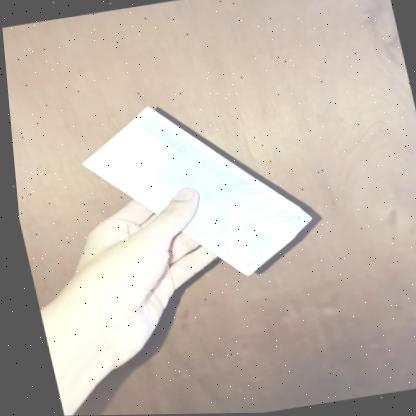ten-back-vef: (66, 87, 320, 297)
